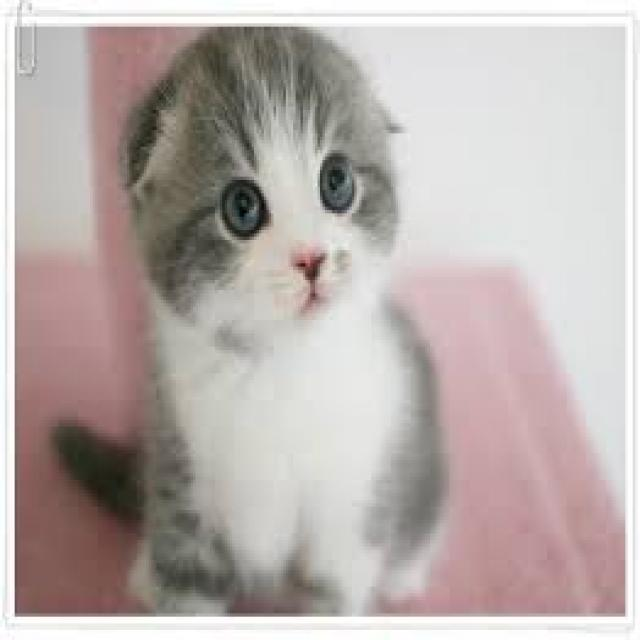cat-face: (80, 13, 452, 397)
